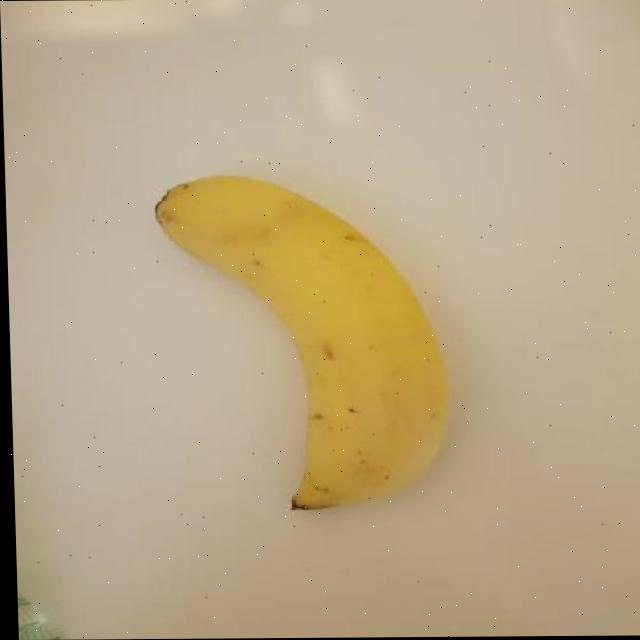banana: (141, 166, 462, 517)
